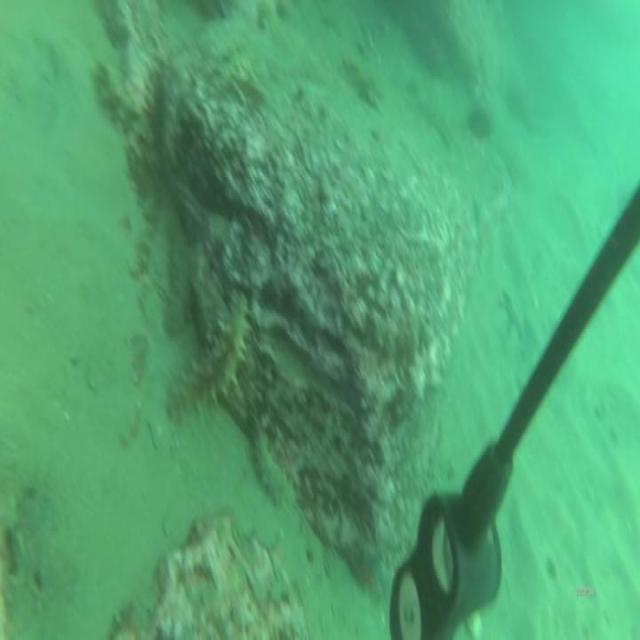holothurian: (162, 286, 252, 430)
